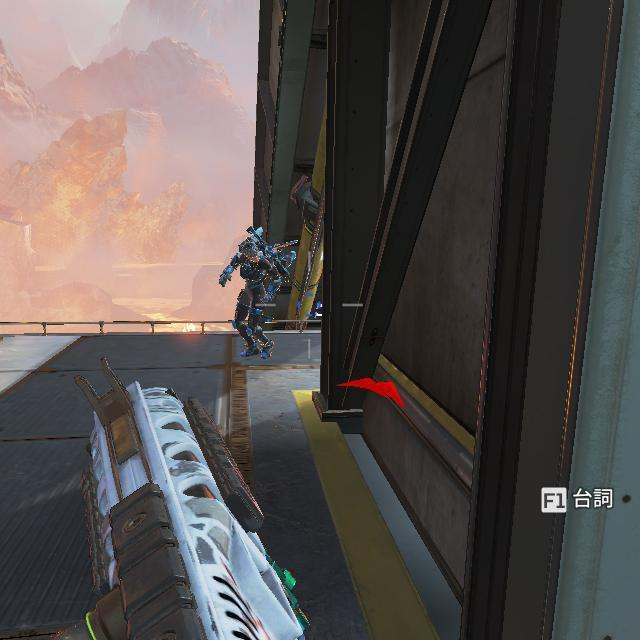avatar: (220, 227, 297, 359)
